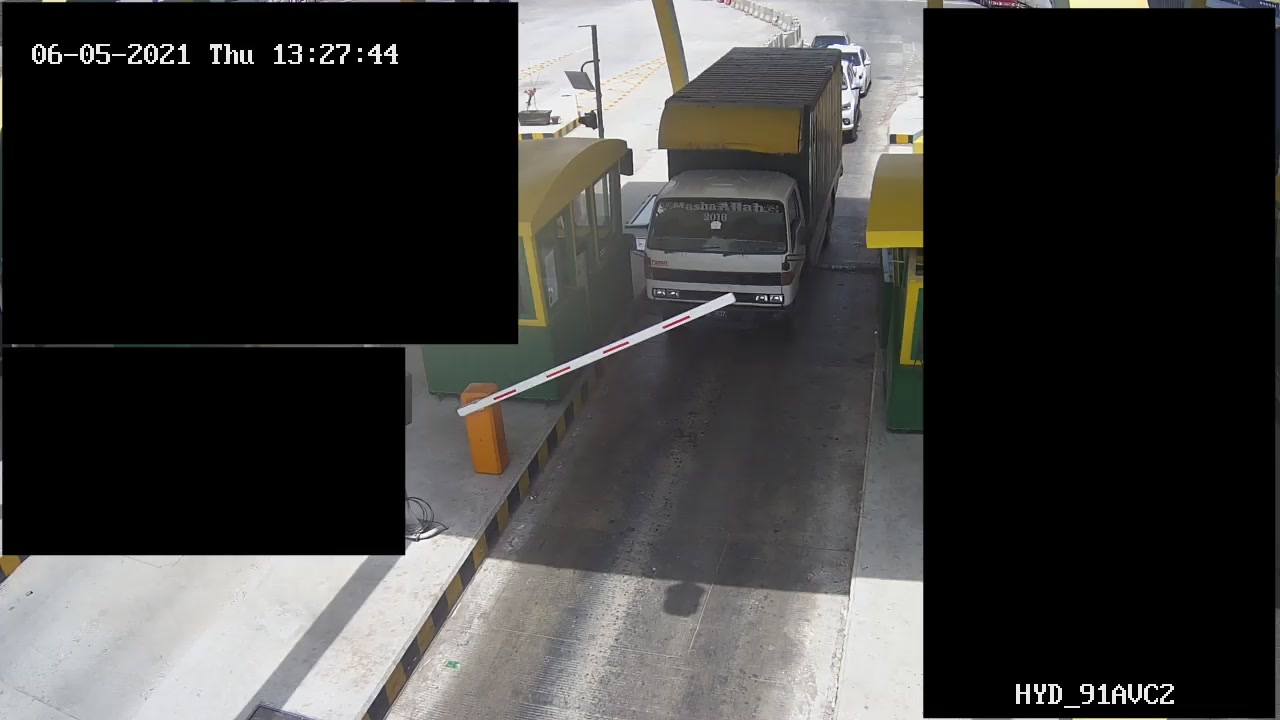F5: (639, 42, 845, 335)
